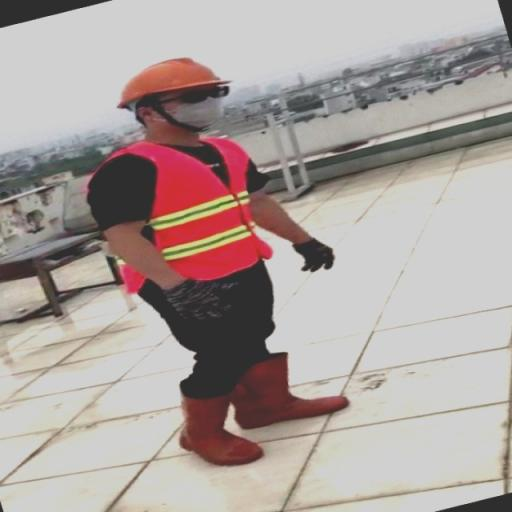Person: (95, 62, 386, 481)
boots: (230, 344, 366, 428), (171, 386, 270, 470)
gloves: (169, 272, 240, 326), (290, 238, 336, 275)
goggles: (145, 84, 230, 112)
helmet: (107, 54, 232, 106)
vest: (89, 137, 274, 290)
